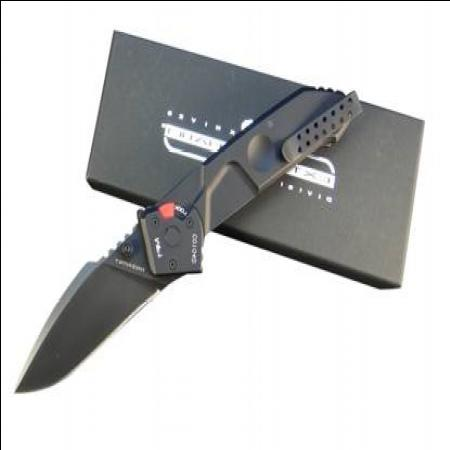long weapon: (11, 222, 177, 396)
